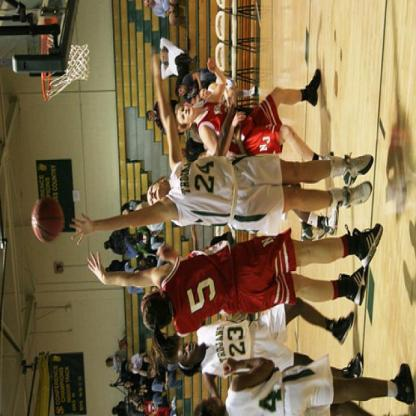basketball: (31, 196, 63, 242)
rim: (37, 25, 52, 101)
